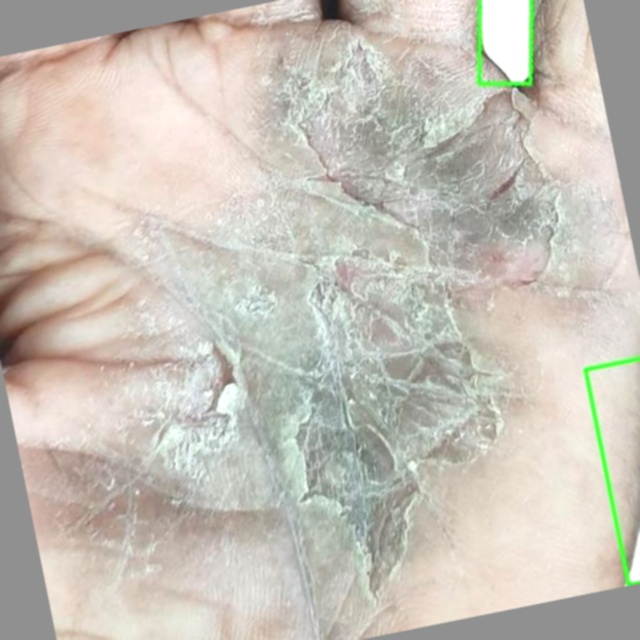Contact Dermatitis: (479, 0, 531, 83)
